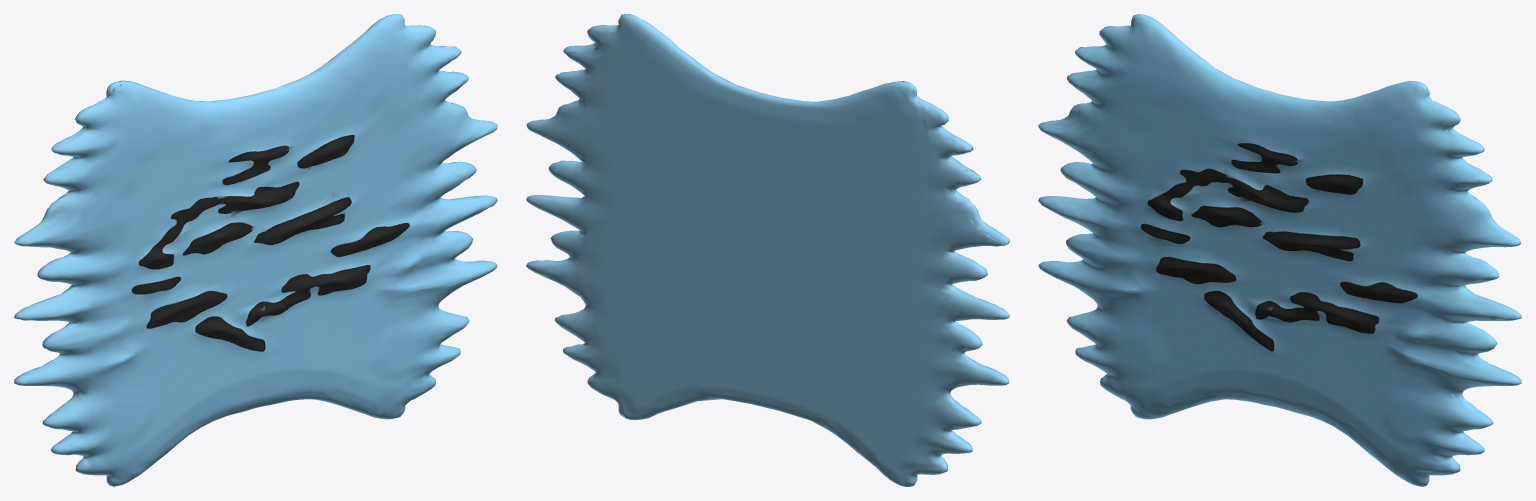
File: water.glb
3 views of the same model, side by side, from view 1: azimuth 30°, elevation 25°; view 2: azimuth 150°, elevation 25°; view 3: azimuth 330°, elevation 25° (orthographic).
Bounding box in the file's own units: 1.91 × 1.52 × 0.0978.
1 material, 1 textured.
